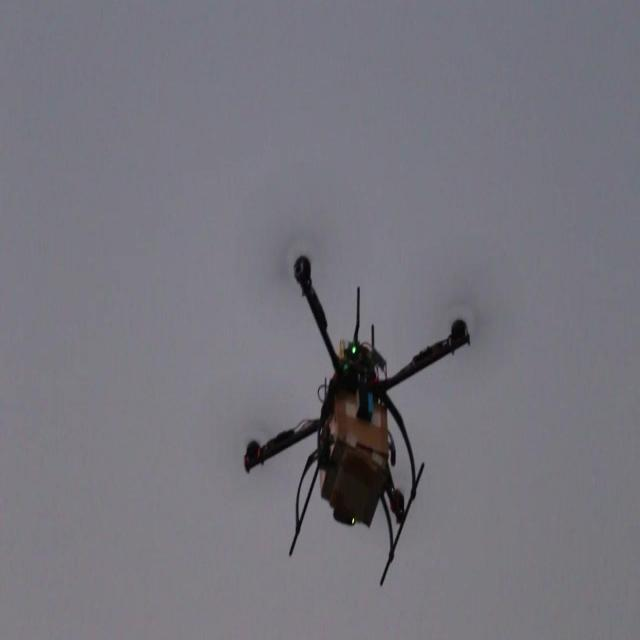UAV: (243, 253, 471, 590)
